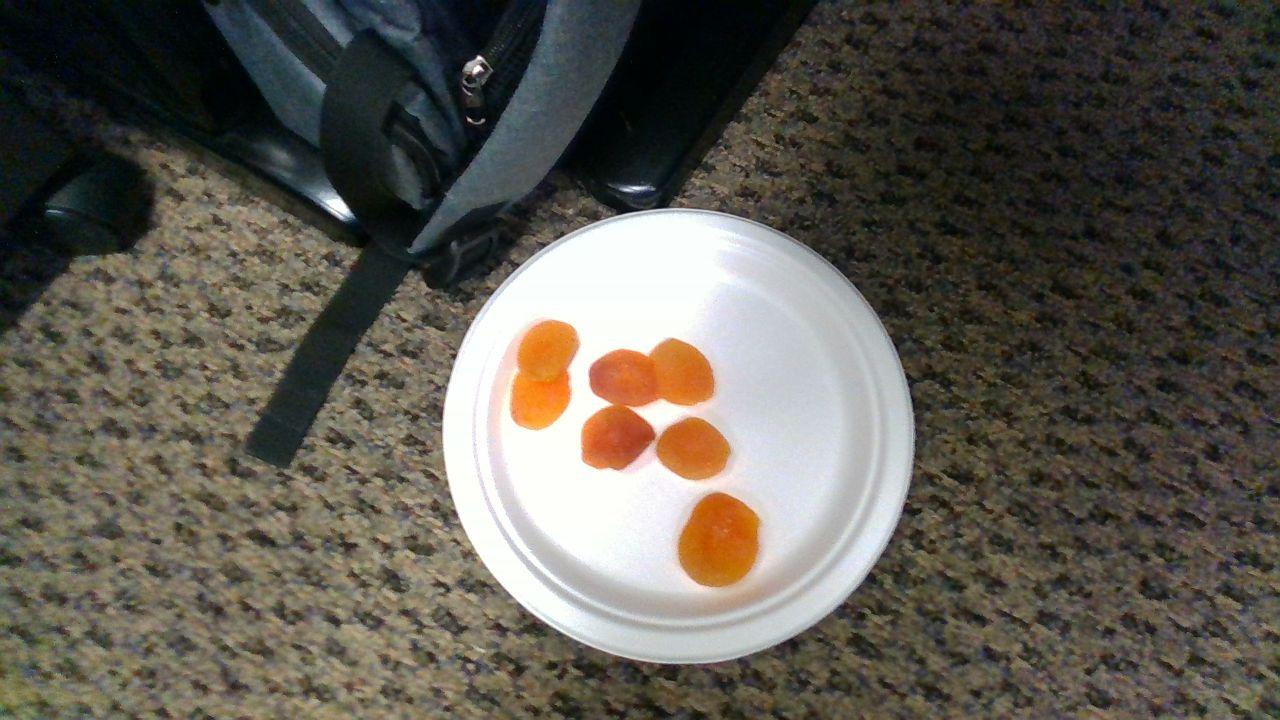apricot: (680, 495, 759, 586), (581, 407, 654, 470), (658, 416, 731, 479), (651, 338, 714, 406), (518, 321, 580, 382), (510, 369, 571, 430), (591, 350, 657, 406)
